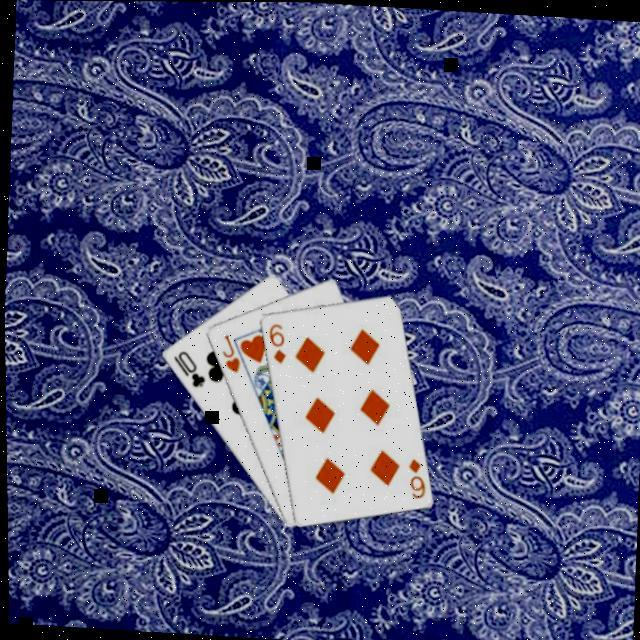10C: (167, 347, 208, 391)
6D: (262, 320, 289, 367), (401, 455, 428, 502)
JH: (215, 331, 242, 376)
